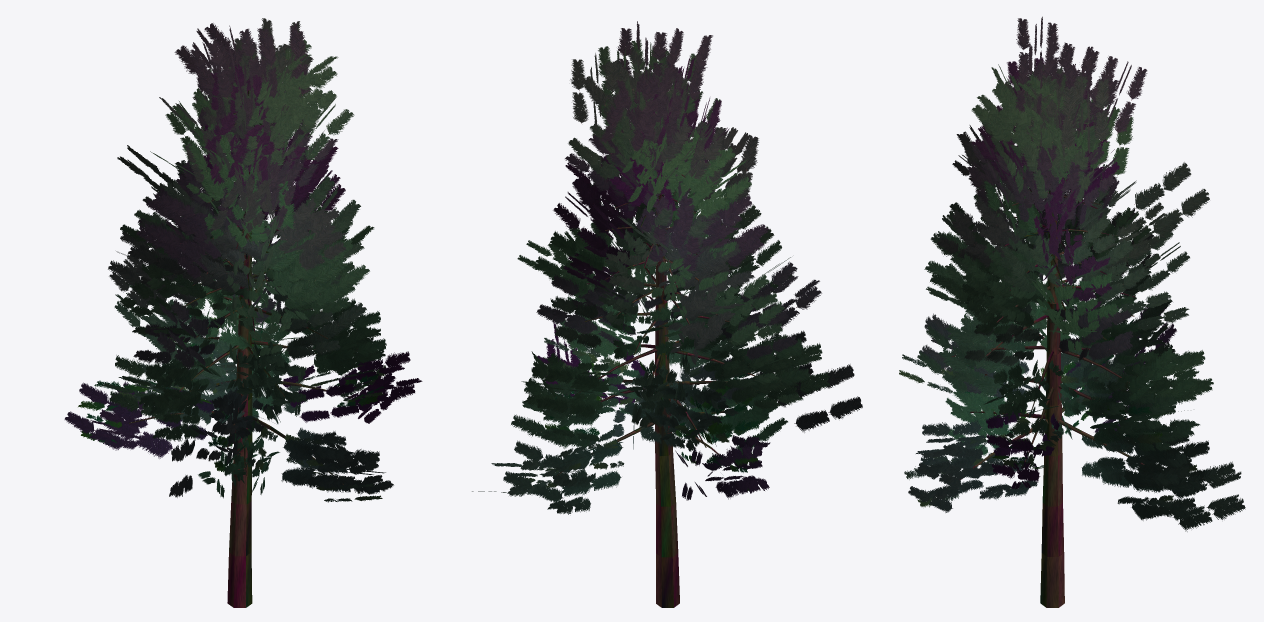
File: nat_pine_b_LOD1.glb
The picture shows the model from 3 angles, left to right: view 1: azimuth 30°, elevation 25°; view 2: azimuth 150°, elevation 25°; view 3: azimuth 270°, elevation 25°; orthographic projection. The views are drawn at different scales.
Parts seen in each view (by area): view 1: nat_pine_b_LOD1; view 2: nat_pine_b_LOD1; view 3: nat_pine_b_LOD1.
Part boxes in pixels (x1,y1,x2,y2): nat_pine_b_LOD1: [64, 18, 422, 607]; nat_pine_b_LOD1: [472, 21, 862, 607]; nat_pine_b_LOD1: [899, 16, 1245, 607].
Size of the model in its own units: 6.08 by 10.32 by 5.7.
2 materials, 2 textured.
